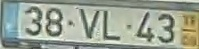3: (22, 4, 44, 37), (156, 12, 175, 44)
4: (134, 11, 156, 43)
8: (44, 6, 64, 38)
L: (101, 9, 121, 41)
V: (77, 7, 101, 39)
